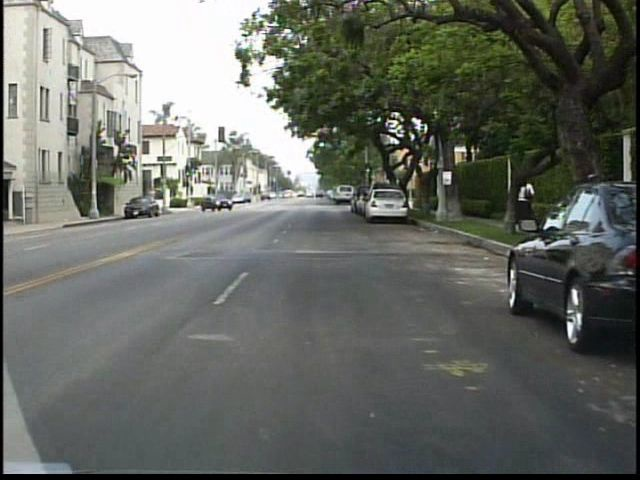person: (512, 178, 535, 223)
